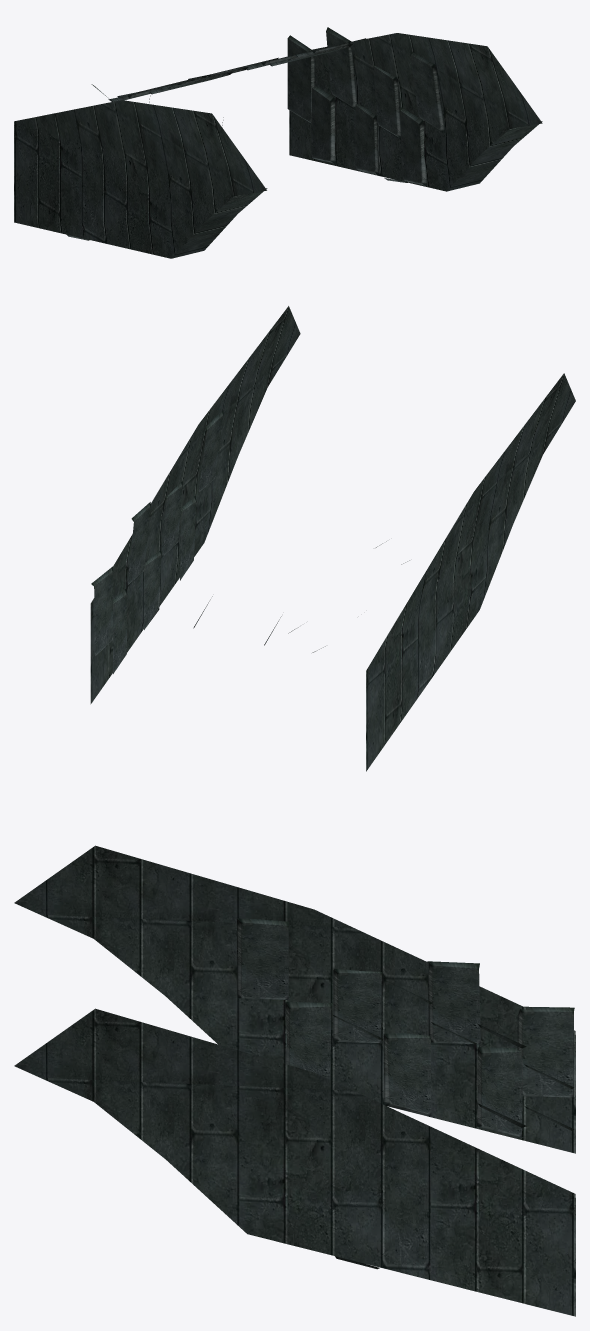
3 renders of one model, top to bottom at view 1: azimuth 30°, elevation 25°; view 2: azimuth 150°, elevation 25°; view 3: azimuth 270°, elevation 25°, orthographic. The views are drawn at different scales.
Visible parts, largest first — view 1: model_Object01; view 2: model_Object01; view 3: model_Object01.
Part boxes in pixels (x1,y1,x2,y2): model_Object01: (14, 27, 542, 258); model_Object01: (90, 306, 575, 771); model_Object01: (14, 845, 575, 1316).
Bounding box in the file's own units: 5.93 × 4.09 × 6.76.
Materials: 1 (1 with a texture image).
